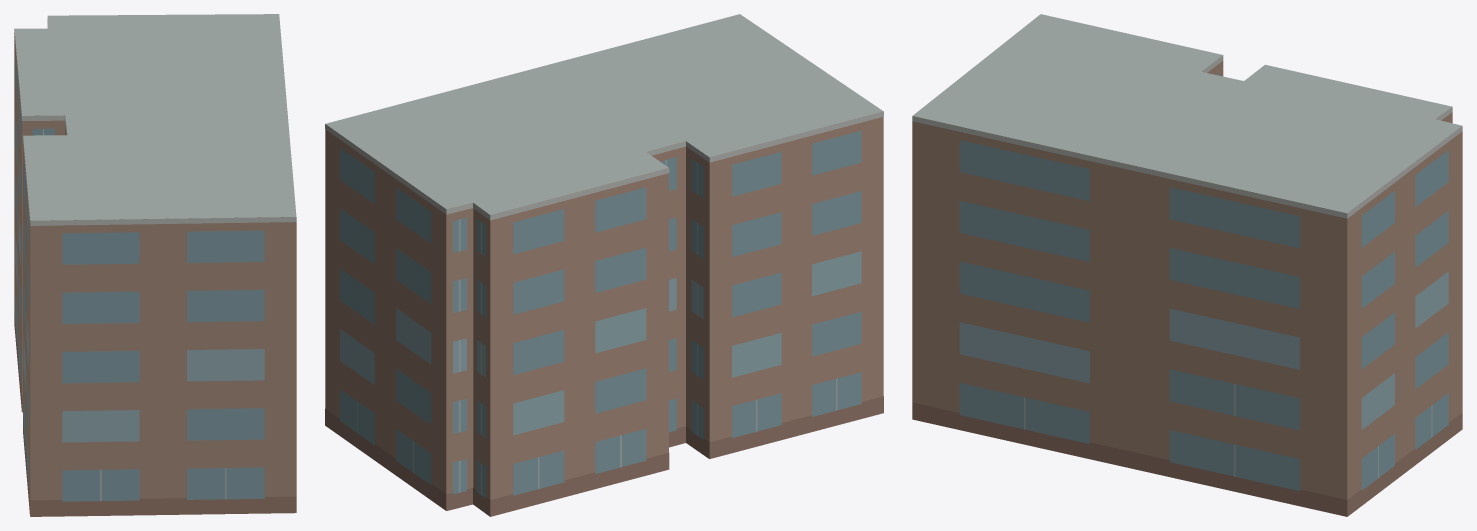
File: survey-upis-32657510.glb
The picture shows the model from 3 angles, left to right: view 1: azimuth 30°, elevation 25°; view 2: azimuth 150°, elevation 25°; view 3: azimuth 270°, elevation 25°; orthographic projection. The views are drawn at different scales.
Visible parts, largest first — view 1: survey-upis-32657510.tmp; view 2: survey-upis-32657510.tmp; view 3: survey-upis-32657510.tmp.
Boxes of the visible parts, x1,y1,x2,y2 form: survey-upis-32657510.tmp: (14, 14, 296, 516); survey-upis-32657510.tmp: (325, 14, 883, 516); survey-upis-32657510.tmp: (912, 14, 1462, 516).
Bounding box in the file's own units: 19.53 × 13.86 × 22.78.
